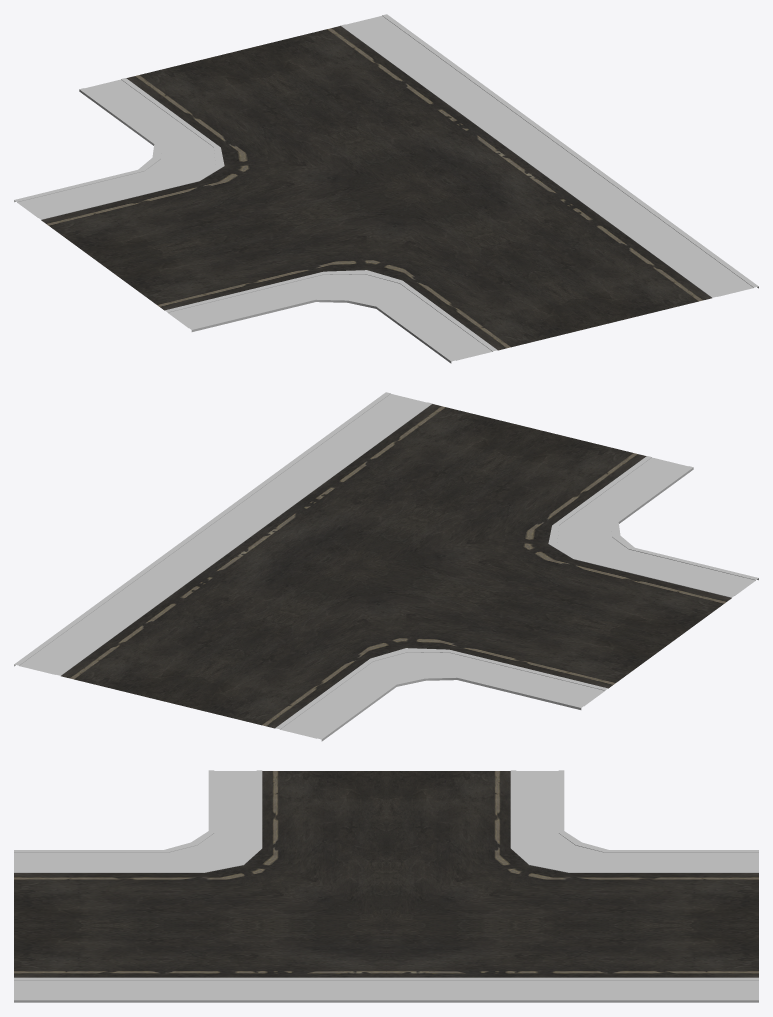
The model's file is Road_Intersection_F.fbx.
3 views of the same model, one above another, from view 1: azimuth 30°, elevation 25°; view 2: azimuth 150°, elevation 25°; view 3: azimuth 270°, elevation 25° (orthographic).
Parts seen in each view (by area): view 1: Road_Intersection_F; view 2: Road_Intersection_F; view 3: Road_Intersection_F.
Boxes of the visible parts, box(x1,y1,x2,y2) form: Road_Intersection_F: box(14, 14, 758, 363); Road_Intersection_F: box(14, 392, 758, 741); Road_Intersection_F: box(14, 770, 758, 1002).
Size of the model in its own units: 2292 by 10.58 by 3141.
